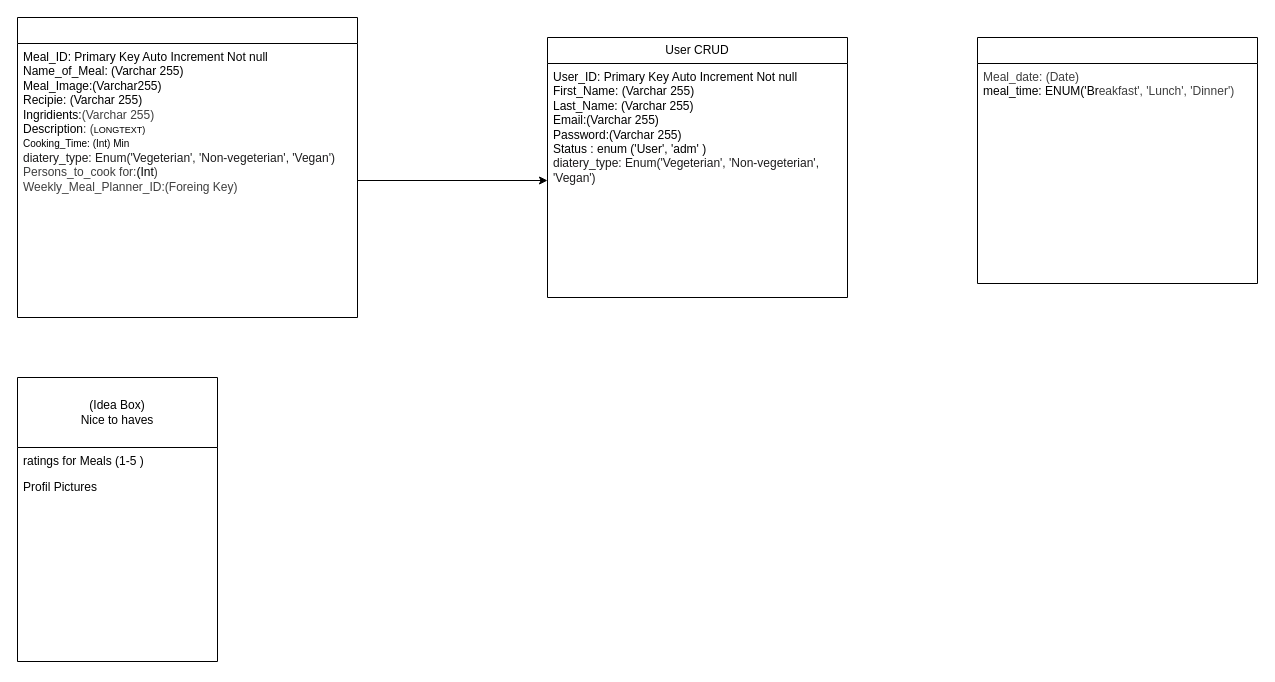
The diagram is 1275 pixels wide and 682 high, and some of its shapes have lost their labels. The shapes that lost their labels are listed below. From the top down, each one's box as (x1, y1, x2, y2) in pixels, then its label:
(16, 16, 358, 318): Meal CRUD
(976, 36, 1258, 284): Weekyl Meal Planner CRUD
